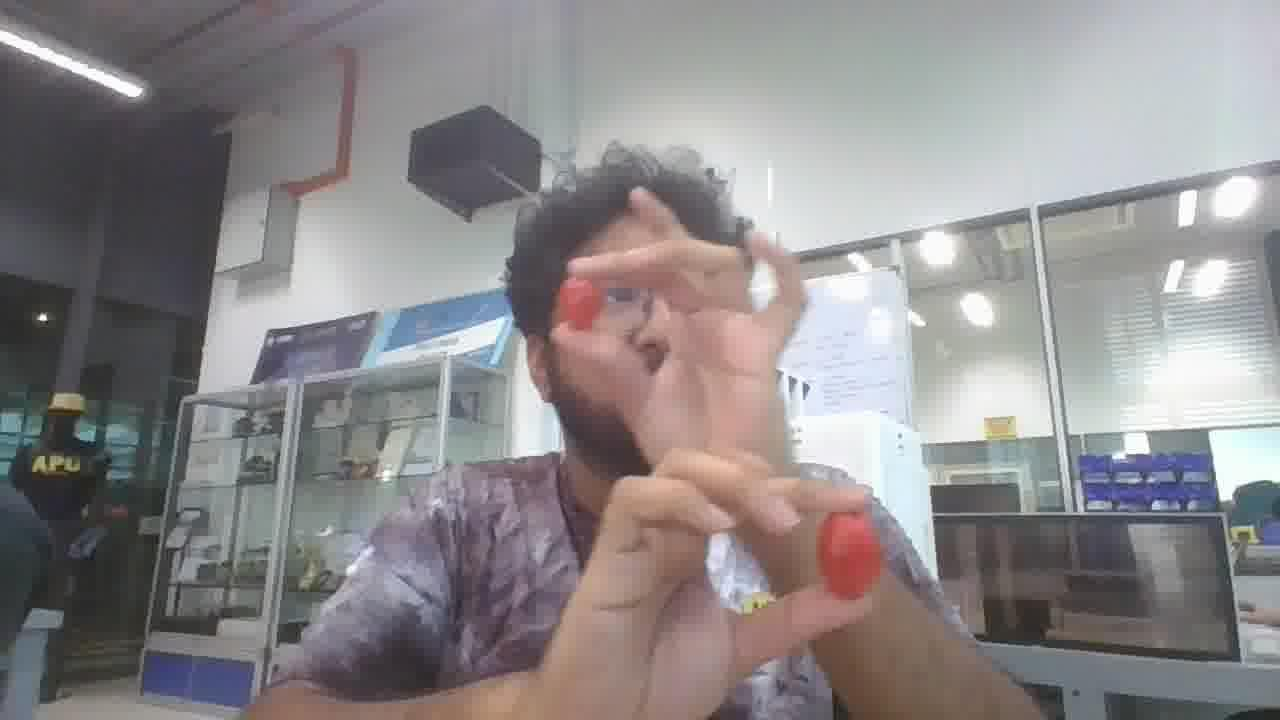red_cherry_tomato: (817, 513, 880, 599), (555, 278, 603, 329)
